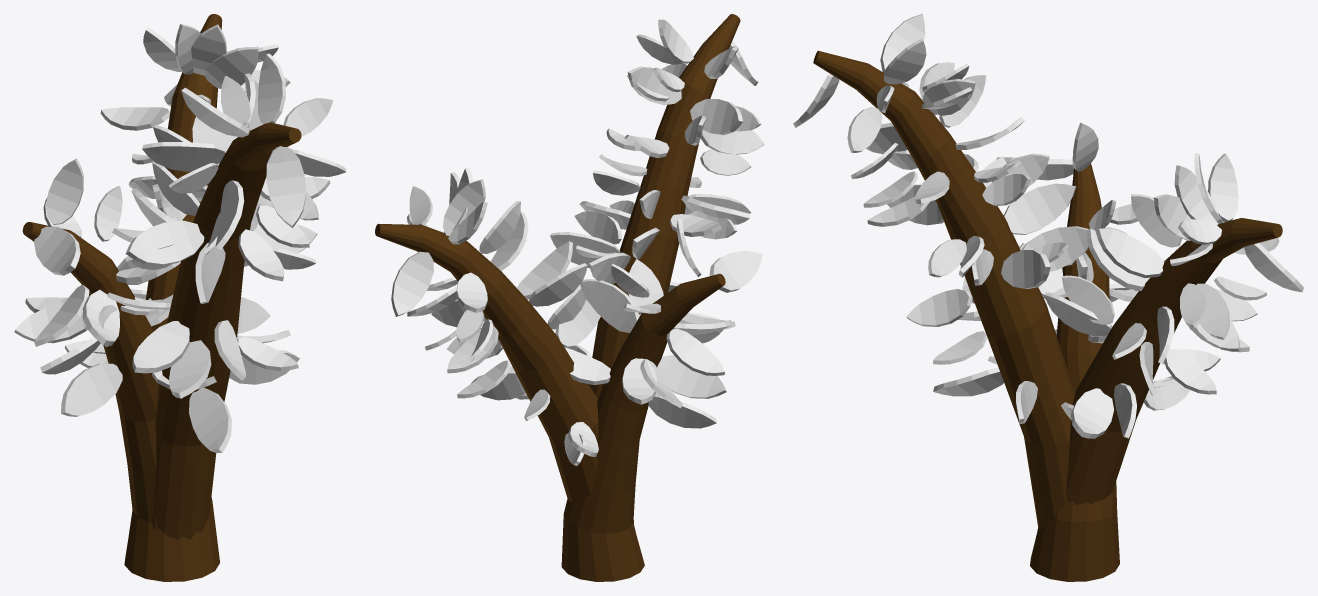
The model's file is Arbusto2Hoja1Otoño.fbx.
The picture shows the model from 3 angles, left to right: view 1: azimuth 30°, elevation 25°; view 2: azimuth 150°, elevation 25°; view 3: azimuth 270°, elevation 25°; orthographic projection. The views are drawn at different scales.
Parts seen in each view (by area): view 1: RamasArbusto2Hoja1Otoño; view 2: RamasArbusto2Hoja1Otoño; view 3: RamasArbusto2Hoja1Otoño.
Boxes of the visible parts, x1,y1,x2,y2 form: RamasArbusto2Hoja1Otoño: (14, 14, 346, 581); RamasArbusto2Hoja1Otoño: (375, 14, 764, 581); RamasArbusto2Hoja1Otoño: (793, 14, 1303, 581).
Size of the model in its own units: 75.37 by 129 by 113.
